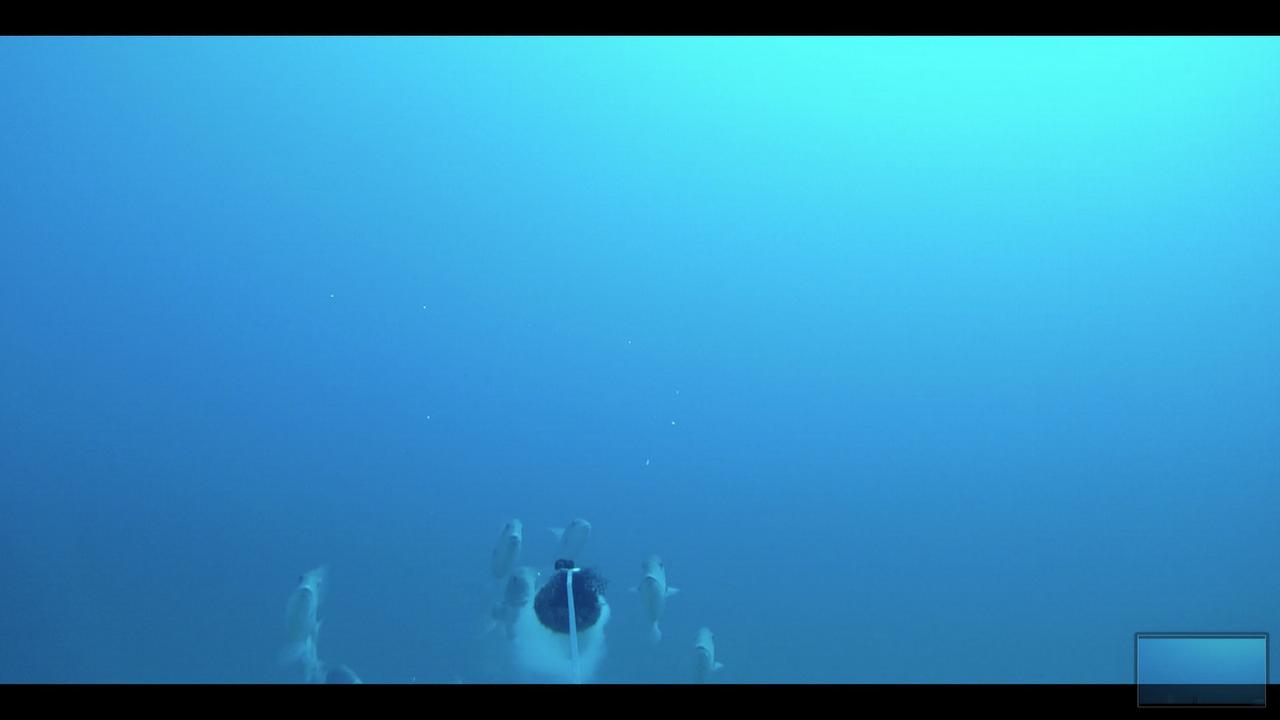balistes: (272, 558, 342, 666), (625, 550, 685, 646), (479, 562, 542, 641), (481, 508, 526, 585), (685, 620, 730, 680), (544, 510, 592, 564)
